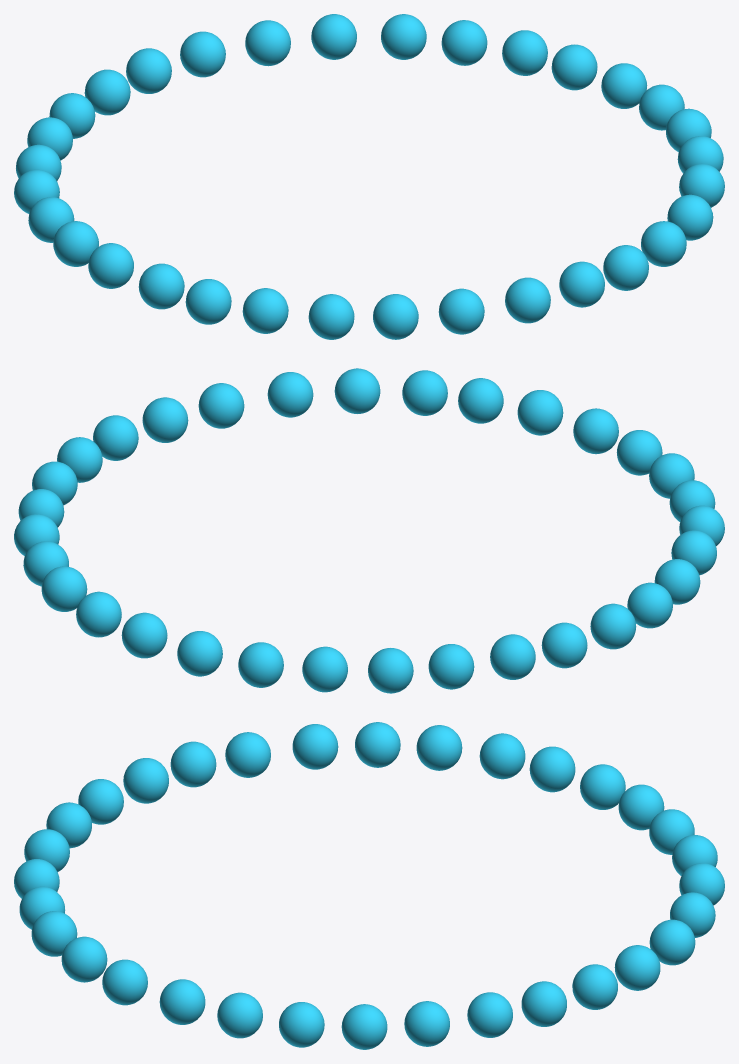
3 renders of one model, top to bottom at view 1: azimuth 30°, elevation 25°; view 2: azimuth 150°, elevation 25°; view 3: azimuth 270°, elevation 25°, orthographic.
Parts seen in each view (by area): view 1: Sphere048; view 2: Sphere048; view 3: Sphere048.
Boxes of the visible parts, x1,y1,x2,y2 form: Sphere048: [14, 14, 724, 339]; Sphere048: [14, 368, 724, 693]; Sphere048: [14, 722, 724, 1049].
Bounding box in the file's own units: 128 × 8.22 × 127.
